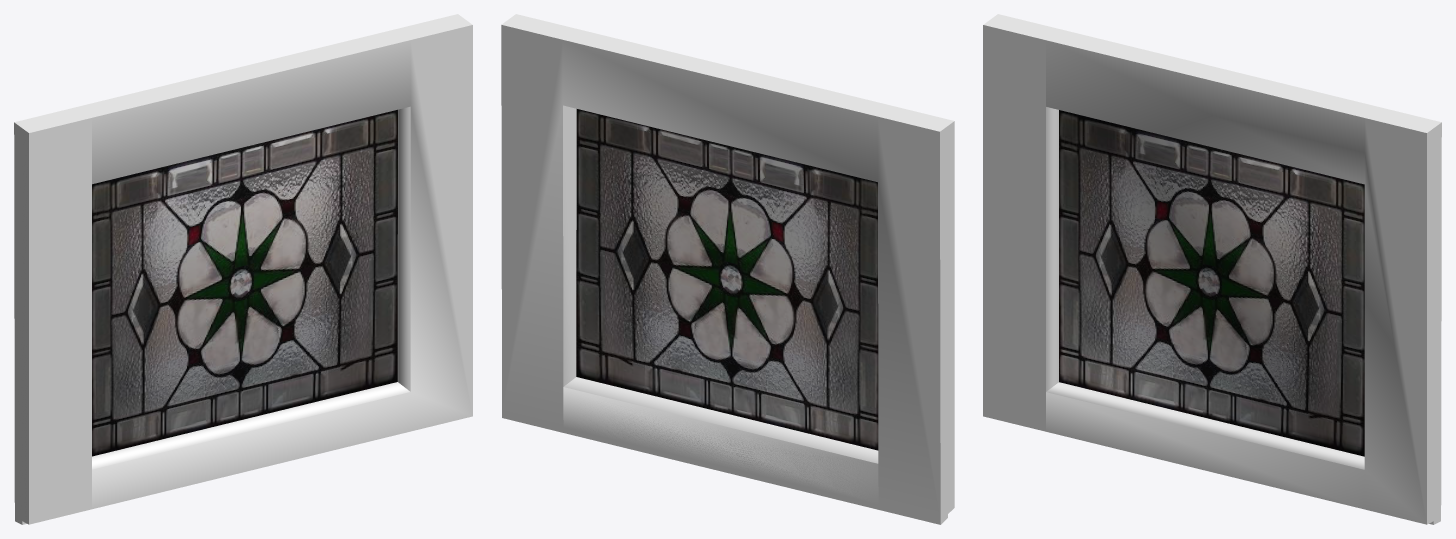
File: StableDoorWhiteUPPER02.fbx
3 renders of one model, left to right at view 1: azimuth 30°, elevation 25°; view 2: azimuth 150°, elevation 25°; view 3: azimuth 330°, elevation 25°, orthographic.
Parts seen in each view (by area): view 1: default; view 2: default; view 3: default.
Boxes of the visible parts, x1=… form: default: x1=14, y1=14, x2=472, y2=524; default: x1=501, y1=14, x2=954, y2=524; default: x1=983, y1=14, x2=1441, y2=524.
Size of the model in its own units: 113 by 96.82 by 6.56.
